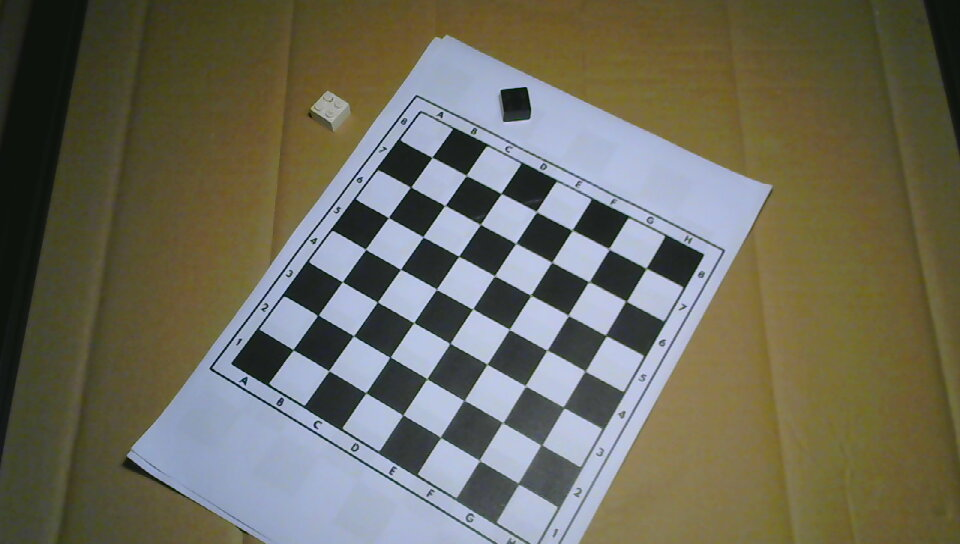bp: (498, 85, 532, 122)
wp: (310, 90, 351, 130)
